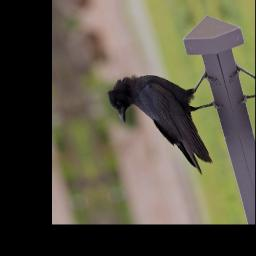Crow: (103, 58, 241, 190)
